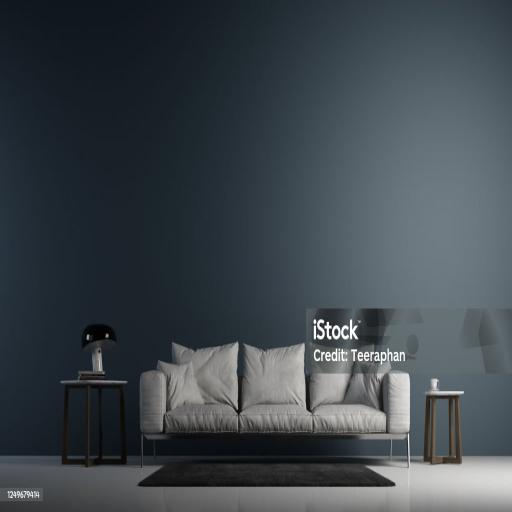back_cushion: (310, 345, 390, 409), (172, 343, 238, 407), (240, 345, 306, 409)
left_arm: (384, 372, 410, 433)
legs: (340, 434, 410, 467), (141, 433, 178, 466)
right_arm: (140, 370, 166, 432)
seat_cushion: (164, 404, 386, 434)
stallion-sofa2: (140, 342, 410, 467)
